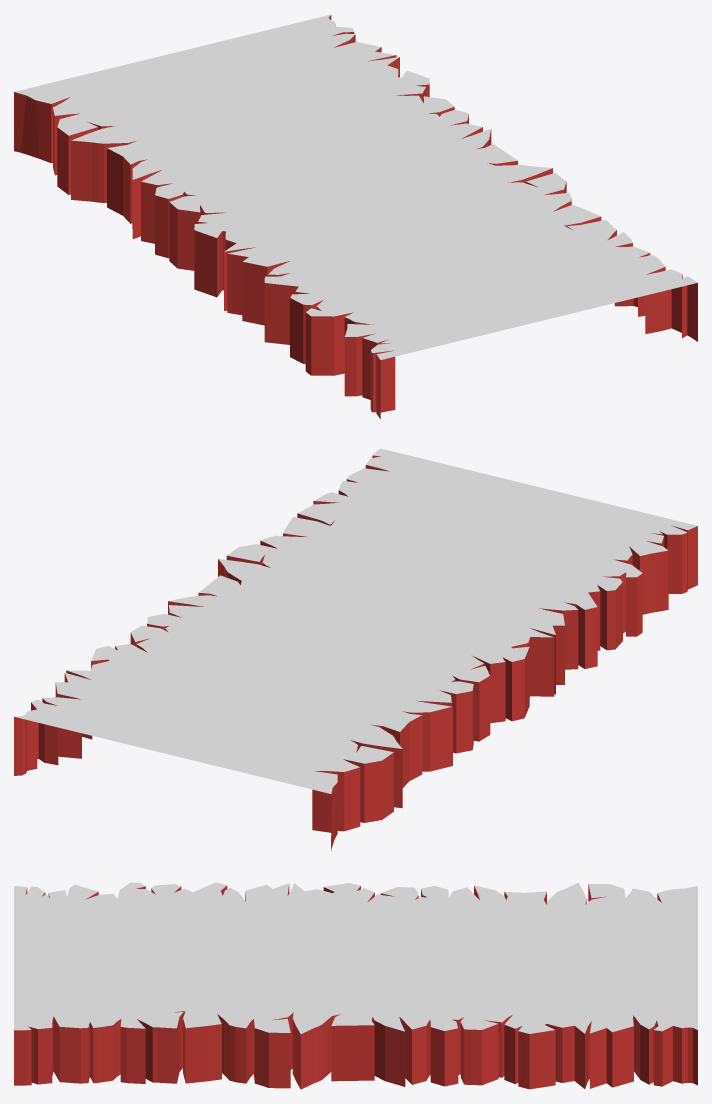
File: newice 1.fbx
3 renders of one model, top to bottom at view 1: azimuth 30°, elevation 25°; view 2: azimuth 150°, elevation 25°; view 3: azimuth 270°, elevation 25°, orthographic. The views are drawn at different scales.
Parts seen in each view (by area): view 1: Plane.001; view 2: Plane.001; view 3: Plane.001.
Boxes of the visible parts, x1,y1,x2,y2 form: Plane.001: (14, 14, 697, 418); Plane.001: (14, 448, 697, 850); Plane.001: (14, 882, 697, 1089).
Bounding box in the file's own units: 2946 × 500 × 5600.
